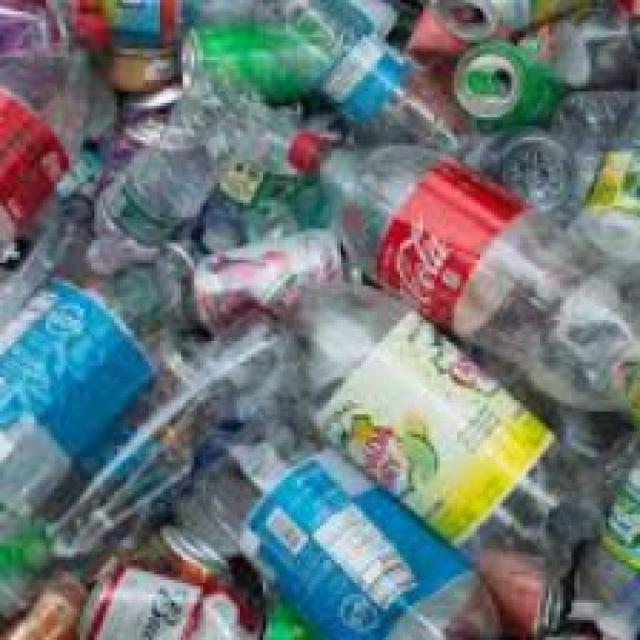heap: (14, 70, 640, 615)
metel: (183, 16, 341, 106), (399, 1, 511, 65), (458, 45, 541, 126)
plastic_bottle: (280, 116, 640, 403), (203, 428, 489, 640), (3, 209, 195, 509)
